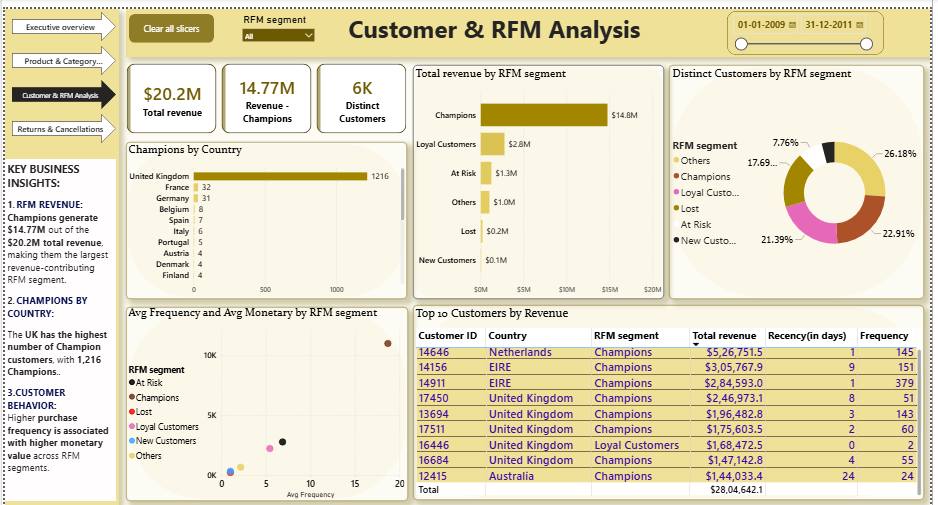

What the dashboard file says about the page in this screenshot:
{"tool":"powerbi","page":{"name":"Customer & RFM Analysis","canvas":[1850,1000],"ordinal":2},"visuals":[{"type":"shape","box":[242,596,564,388],"z":0},{"type":"shape","box":[816,112,502,468],"z":1000},{"type":"shape","box":[242,0,1608,96],"z":2000},{"type":"cardVisual","fields":{"Data":["1 measures table.Total revenue","1 measures table.Revenue - Champions","1 measures table.Distinct Customers"]},"box":[226,92,594,174],"z":3000},{"type":"shape","box":[1444,4,314,88],"z":4000},{"type":"actionButton","box":[247.5,10,170,57.5],"z":5000},{"type":"shape","box":[1328,112,510,468],"z":6000},{"type":"clusteredBarChart","fields":{"Category":["Dim_Customer.RFM segment"],"Y":["1 measures table.Total revenue"]},"box":[816,114,502,466],"z":7000},{"type":"textbox","box":[630,0,698,94],"z":8000},{"type":"donutChart","fields":{"Category":["Dim_Customer.RFM segment"],"Y":["1 measures table.Distinct Customers"]},"box":[1330,114,508,468],"z":9000},{"type":"shape","box":[816,592,1022,390],"z":10000},{"type":"tableEx","title":"Top 10 Customers by Revenue","fields":{"Values":["Dim_Customer.Customer ID","Dim_Customer.Country","Dim_Customer.RFM segment","1 measures table.Total revenue","Dim_Customer.Recency(in days)","Dim_Customer.Frequency"]},"box":[816,592,1022,386],"z":11000},{"type":"scatterChart","fields":{"Series":["Dim_Customer.RFM segment"],"X":["1 measures table.Avg Frequency"],"Y":["1 measures table.Avg Monetary"]},"box":[242,592,562,392],"z":12000},{"type":"shape","box":[242,266,562,314],"z":13000},{"type":"clusteredBarChart","title":"Champions by Country","fields":{"Category":["Dim_Customer.Country"],"Y":["1 measures table.Distinct Customers"]},"box":[242,266,562,314],"z":14000},{"type":"shape","box":[0,0,228,1000],"z":15000},{"type":"pageNavigator","box":[14,6,208,262],"z":16000},{"type":"slicer","fields":{"Values":["Calendar.Date"]},"box":[1444,0,300,92],"z":17000},{"type":"slicer","fields":{"Values":["Dim_Customer.RFM segment"]},"box":[464,4,166,66],"z":18000},{"type":"textbox","box":[0,300,222,684],"z":19000}]}

Visuals, with their boxes on the page's 1850x1000 design canvas (x1, y1, x2, y2). These are canvas units, not pixel positions in the 938x505 screenshot, which may show the page scaled, cropped or inside an application window:
shape: bbox=[242, 596, 806, 984]
shape: bbox=[816, 112, 1318, 580]
shape: bbox=[242, 0, 1850, 96]
cardVisual - 1 measures table.Total revenue x 1 measures table.Revenue - Champions: bbox=[226, 92, 820, 266]
shape: bbox=[1444, 4, 1758, 92]
actionButton: bbox=[248, 10, 418, 68]
shape: bbox=[1328, 112, 1838, 580]
clusteredBarChart - Dim_Customer.RFM segment x 1 measures table.Total revenue: bbox=[816, 114, 1318, 580]
textbox: bbox=[630, 0, 1328, 94]
donutChart - Dim_Customer.RFM segment x 1 measures table.Distinct Customers: bbox=[1330, 114, 1838, 582]
shape: bbox=[816, 592, 1838, 982]
"Top 10 Customers by Revenue" tableEx: bbox=[816, 592, 1838, 978]
scatterChart - Dim_Customer.RFM segment x 1 measures table.Avg Frequency: bbox=[242, 592, 804, 984]
shape: bbox=[242, 266, 804, 580]
"Champions by Country" clusteredBarChart: bbox=[242, 266, 804, 580]
shape: bbox=[0, 0, 228, 1000]
pageNavigator: bbox=[14, 6, 222, 268]
slicer - Calendar.Date: bbox=[1444, 0, 1744, 92]
slicer - Dim_Customer.RFM segment: bbox=[464, 4, 630, 70]
textbox: bbox=[0, 300, 222, 984]
